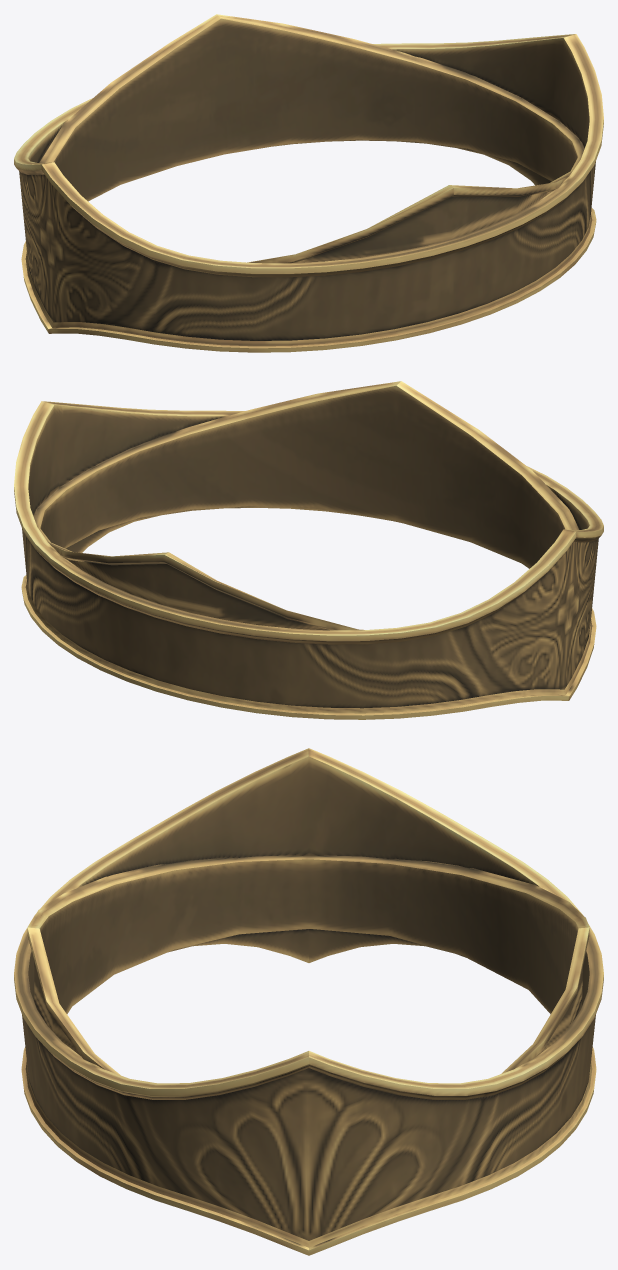
File: SM_Male_Crown_Gold.fbx
3 renders of one model, top to bottom at view 1: azimuth 30°, elevation 25°; view 2: azimuth 150°, elevation 25°; view 3: azimuth 270°, elevation 25°, orthographic. The views are drawn at different scales.
Parts seen in each view (by area): view 1: SM_Male_Crown_Gold_LOD0; view 2: SM_Male_Crown_Gold_LOD0; view 3: SM_Male_Crown_Gold_LOD0.
Boxes of the visible parts, x1,y1,x2,y2 form: SM_Male_Crown_Gold_LOD0: (14, 14, 603, 352); SM_Male_Crown_Gold_LOD0: (14, 381, 603, 719); SM_Male_Crown_Gold_LOD0: (14, 748, 603, 1255).
Size of the model in its own units: 21.26 by 17.15 by 6.53.
Materials: 1 (1 with a texture image).
